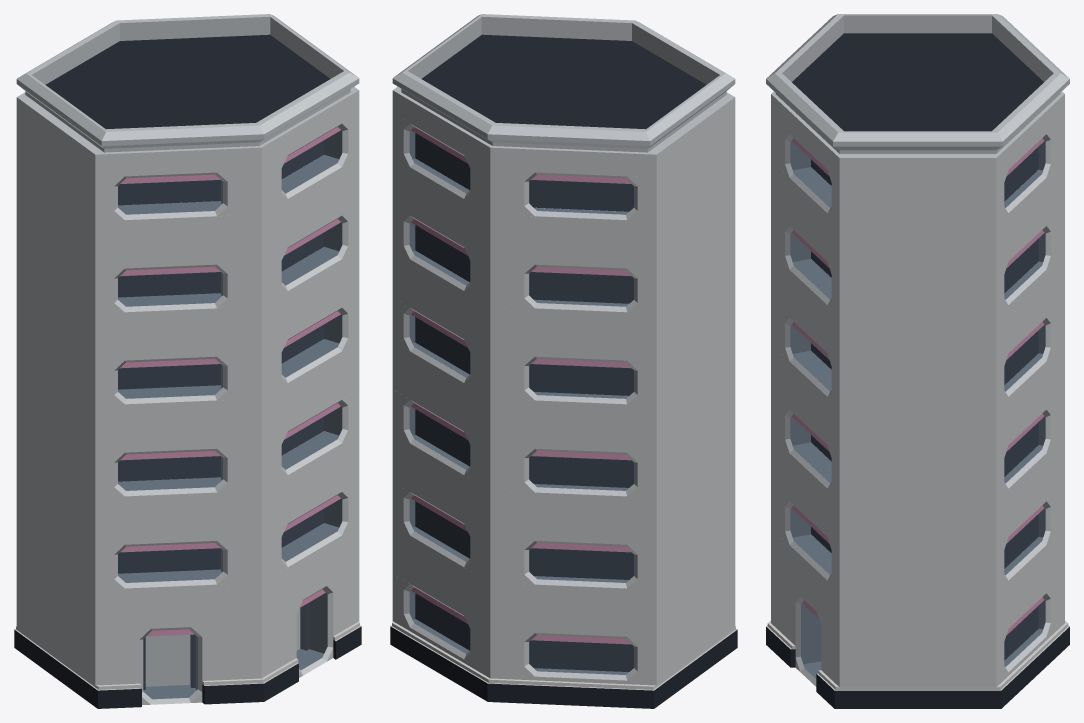
Rendered from building_slab.glb.
The picture shows the model from 3 angles, left to right: view 1: azimuth 30°, elevation 25°; view 2: azimuth 150°, elevation 25°; view 3: azimuth 270°, elevation 25°; orthographic projection.
Visible parts, largest first — view 1: slab-shell, glazing; view 2: slab-shell, glazing; view 3: slab-shell, glazing.
Boxes of the visible parts, bbox=[...] form: slab-shell: bbox=[14, 14, 361, 708]; glazing: bbox=[118, 140, 323, 689]; slab-shell: bbox=[390, 14, 737, 708]; glazing: bbox=[415, 133, 633, 671]; slab-shell: bbox=[766, 14, 1069, 708]; glazing: bbox=[811, 147, 1038, 660].
Size of the model in its own units: 12 by 24.9 by 12.
